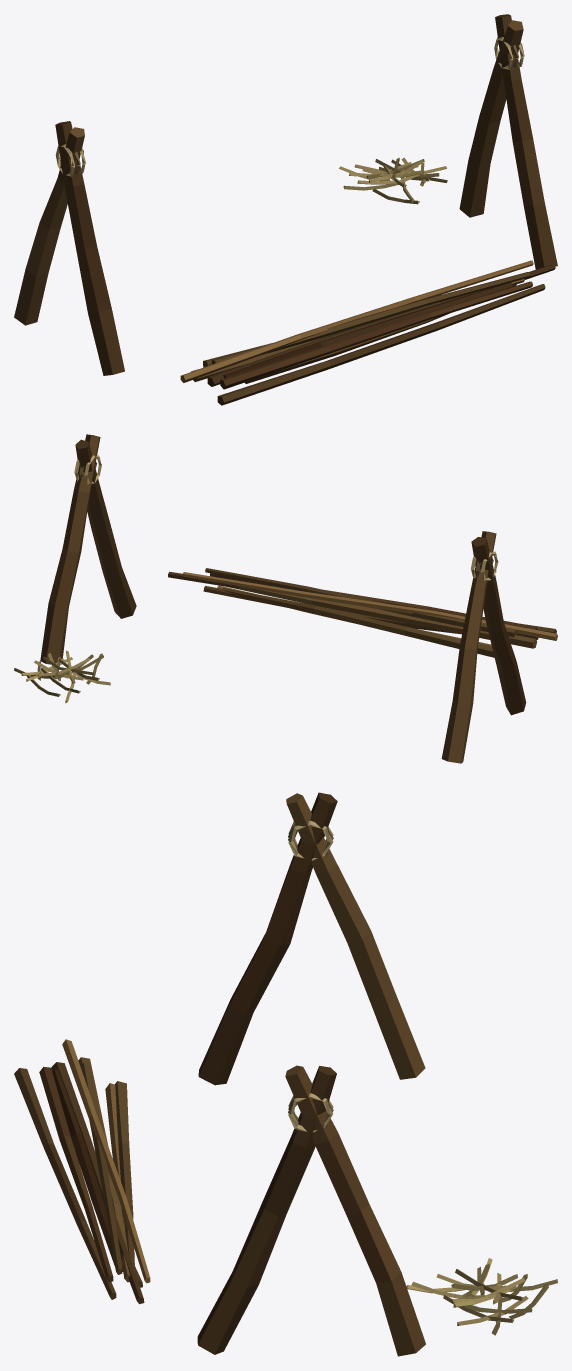
File: drying_rack_1_cantiere.glb
3 renders of one model, top to bottom at view 1: azimuth 30°, elevation 25°; view 2: azimuth 150°, elevation 25°; view 3: azimuth 270°, elevation 25°, orthographic. The views are drawn at different scales.
Visible parts, largest first — view 1: drying_rack_1_cantiere; view 2: drying_rack_1_cantiere; view 3: drying_rack_1_cantiere.
Boxes of the visible parts, x1,y1,x2,y2 form: drying_rack_1_cantiere: [14, 14, 557, 405]; drying_rack_1_cantiere: [14, 434, 557, 763]; drying_rack_1_cantiere: [14, 792, 557, 1356].
Size of the model in its own units: 5.1 by 2.36 by 4.06.
